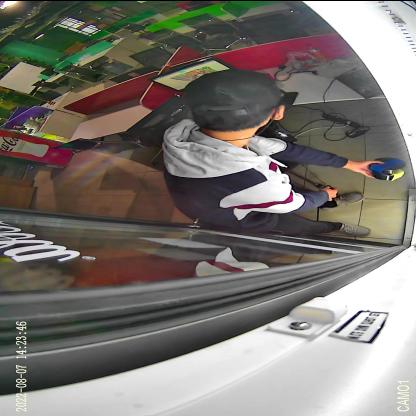blue: (370, 156, 406, 174)
yellow: (372, 168, 405, 180)
